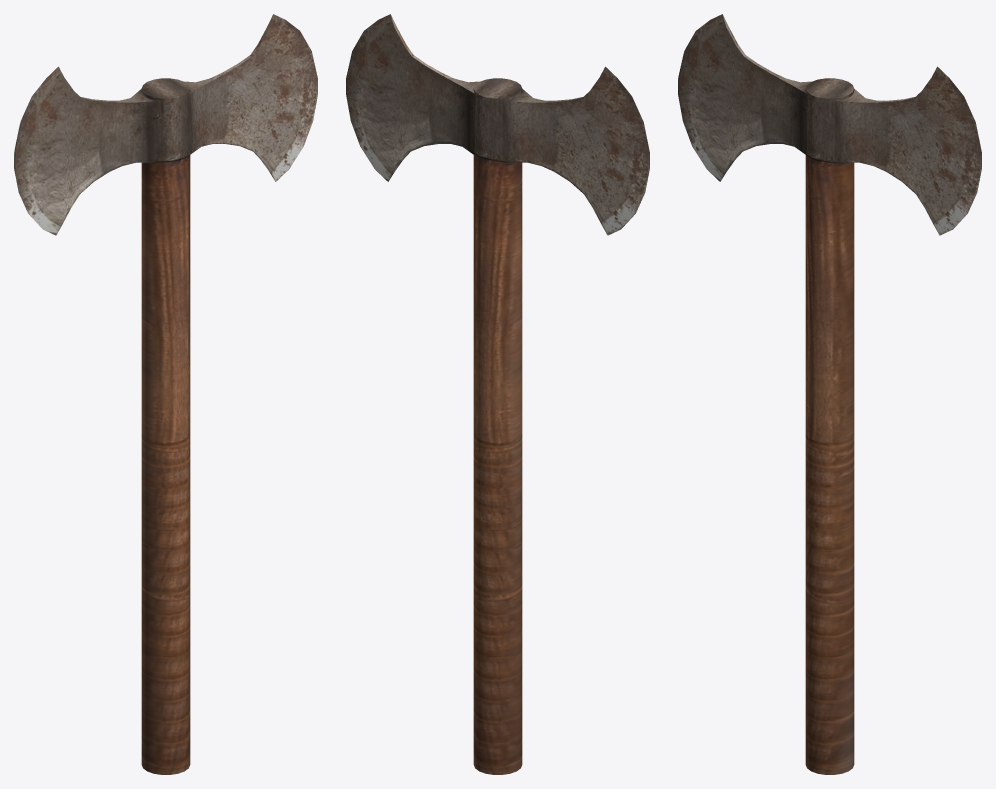
File: Viking Axe.FBX
3 renders of one model, left to right at view 1: azimuth 30°, elevation 25°; view 2: azimuth 150°, elevation 25°; view 3: azimuth 330°, elevation 25°, orthographic.
Parts seen in each view (by area): view 1: balta; view 2: balta; view 3: balta.
Boxes of the visible parts, x1=… form: balta: x1=14, y1=14, x2=317, y2=774; balta: x1=346, y1=14, x2=649, y2=774; balta: x1=678, y1=14, x2=981, y2=774.
Size of the model in its own units: 593 by 1350 by 82.06.
